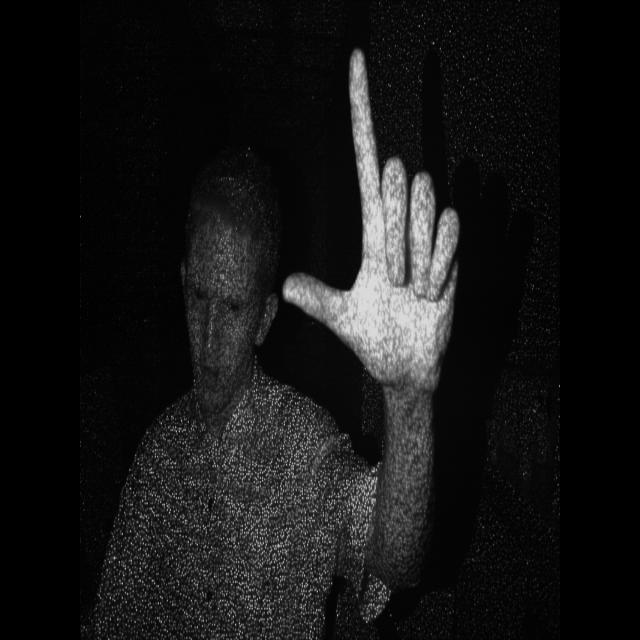L: (265, 43, 467, 410)
